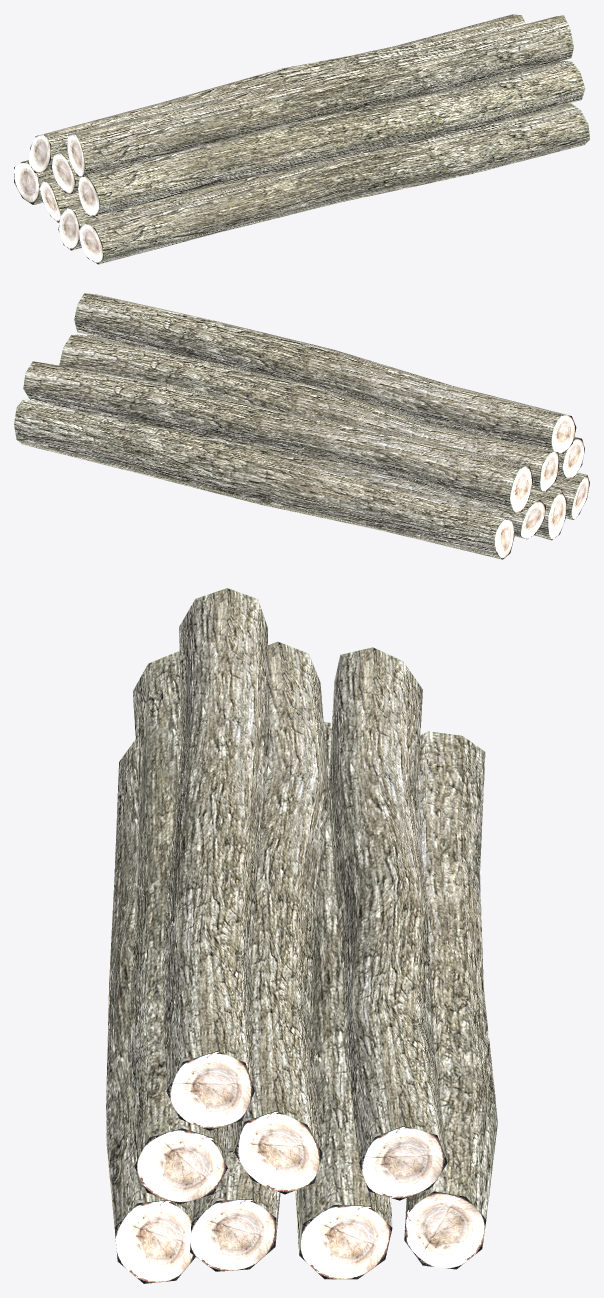
File: log.FBX
The picture shows the model from 3 angles, top to bottom: view 1: azimuth 30°, elevation 25°; view 2: azimuth 150°, elevation 25°; view 3: azimuth 270°, elevation 25°; orthographic projection. The views are drawn at different scales.
Visible parts, largest first — view 1: Log_02; view 2: Log_02; view 3: Log_02.
Boxes of the visible parts, left/top/right/bottom form: Log_02: left=14, top=14, right=589, bottom=264; Log_02: left=14, top=293, right=589, bottom=559; Log_02: left=106, top=588, right=497, bottom=1283.
Size of the model in its own units: 102 by 24.27 by 35.35.
